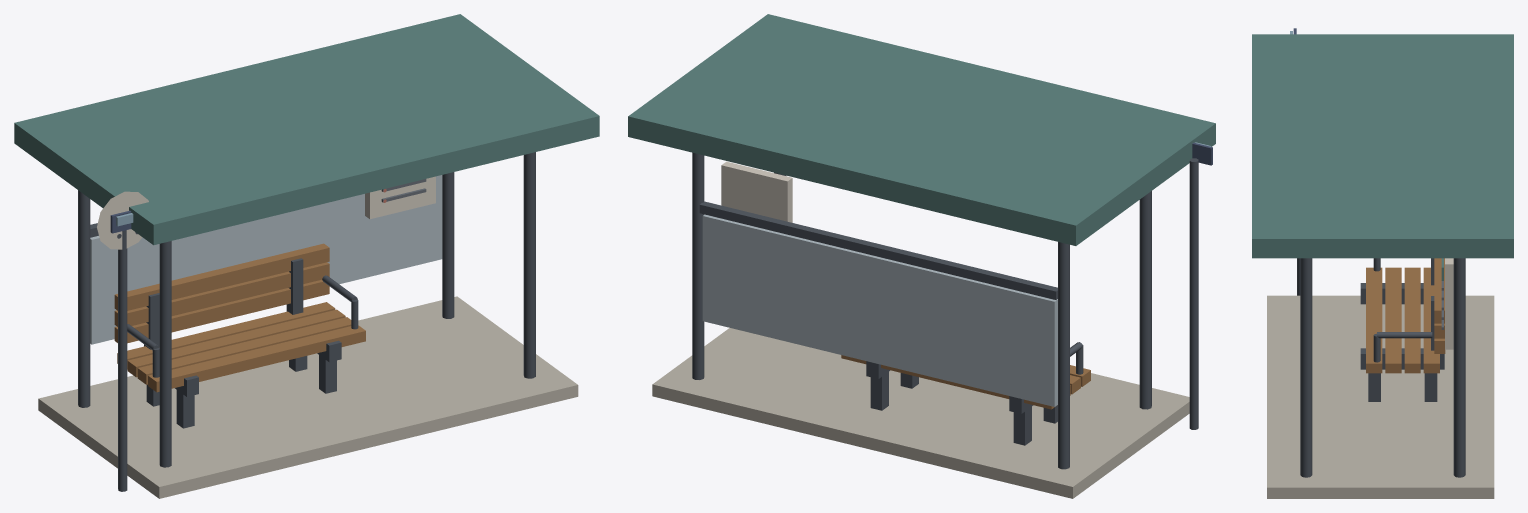
Rendered from komachi-bus-stop.glb.
The picture shows the model from 3 angles, left to right: view 1: azimuth 30°, elevation 25°; view 2: azimuth 150°, elevation 25°; view 3: azimuth 270°, elevation 25°; orthographic projection. The views are drawn at different scales.
Visible parts, largest first — view 1: Bus_Shelter; view 2: Bus_Shelter; view 3: Bus_Shelter.
Boxes of the visible parts, x1,y1,x2,y2 form: Bus_Shelter: (14, 14, 599, 498); Bus_Shelter: (628, 14, 1215, 498); Bus_Shelter: (1252, 28, 1513, 498).
Bounding box in the file's own units: 1.05 × 0.629 × 0.53.
